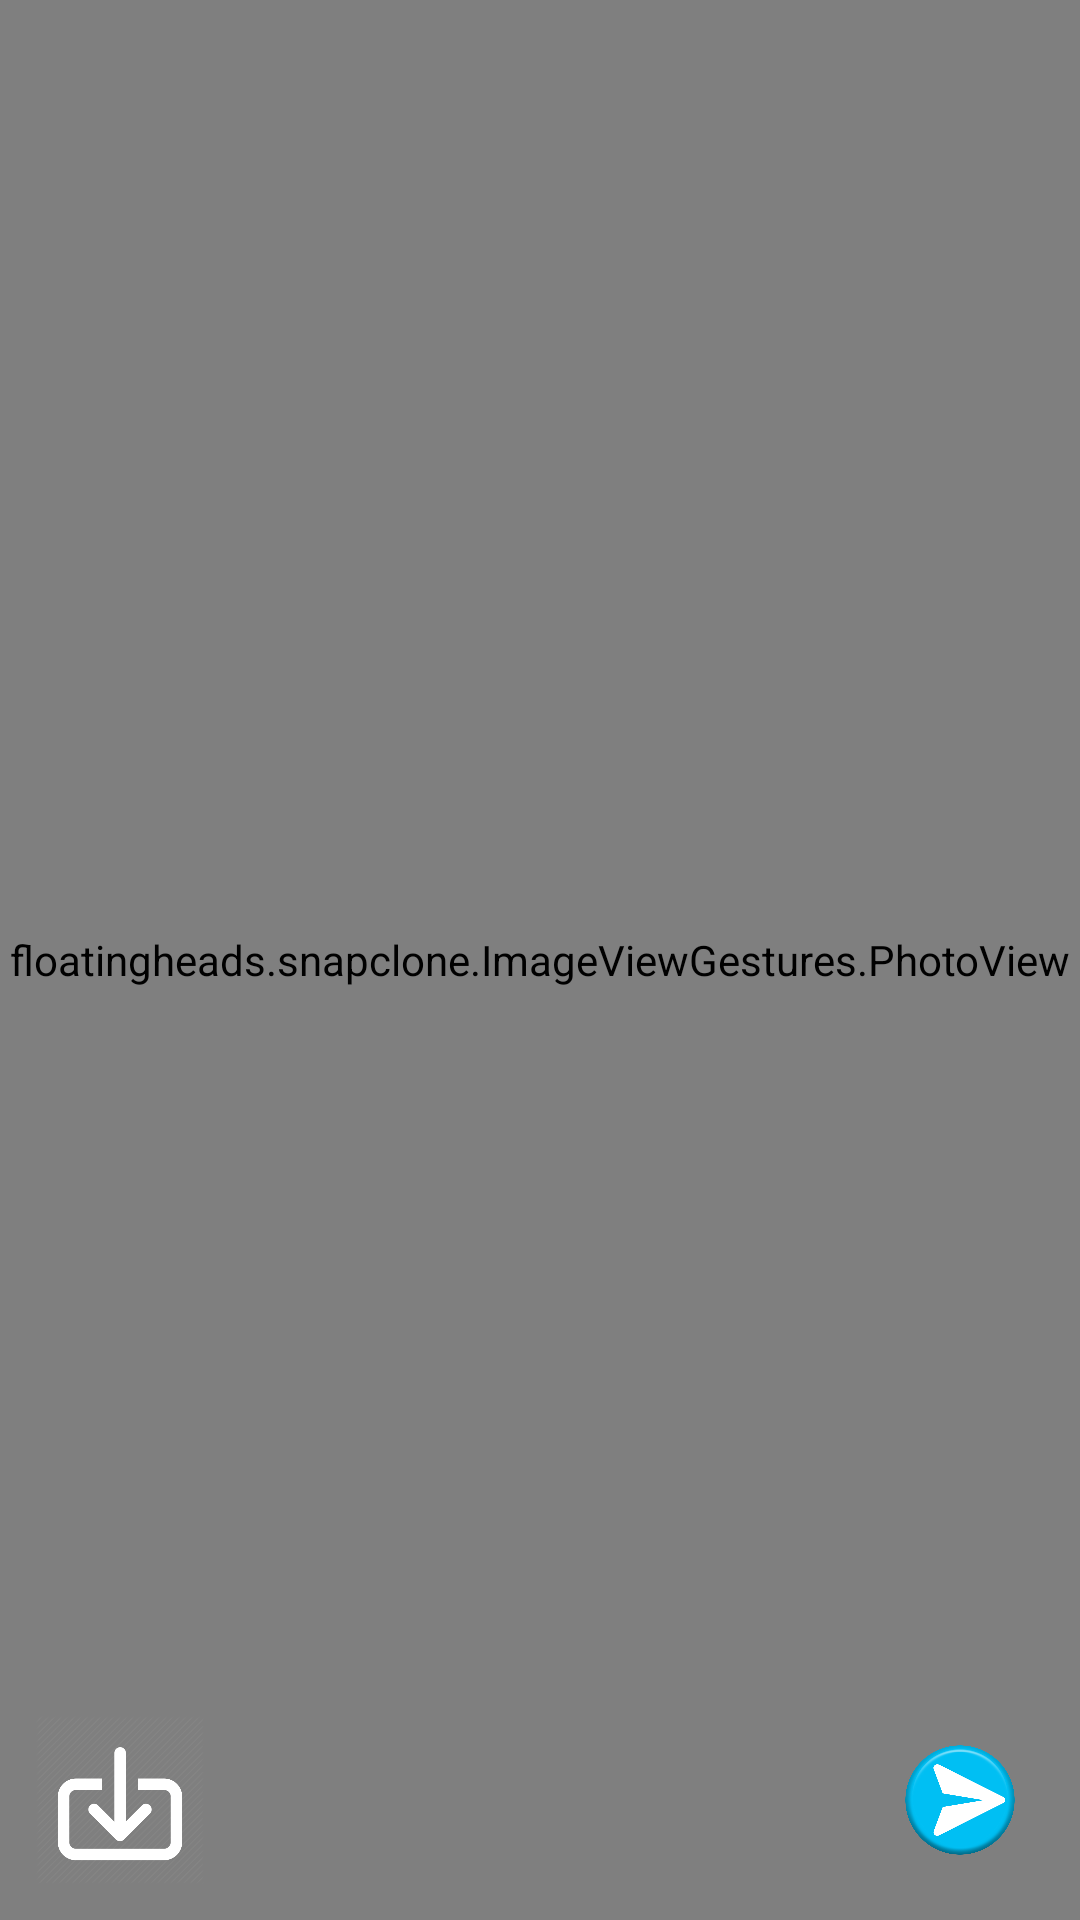

Icons on this 1080 x 1920 Android screen, each with the point to tap as [x,y]:
save: [120,1803]
send: [960,1800]
